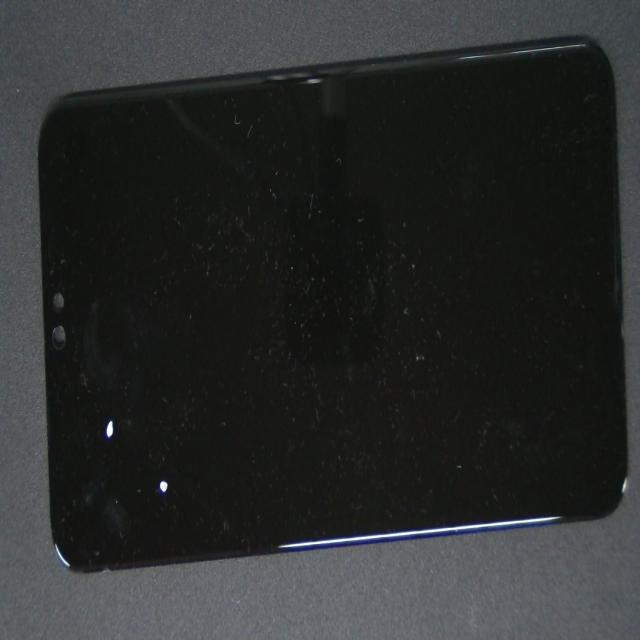stain: (67, 216, 228, 640), (55, 179, 148, 615)
